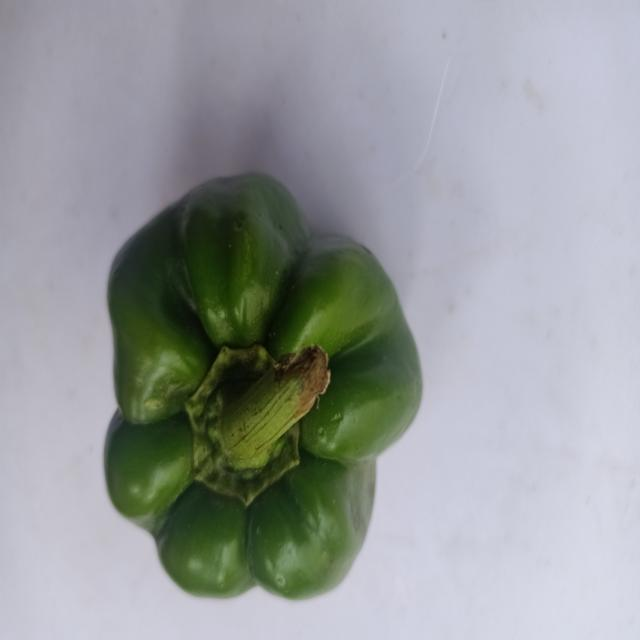Capsicum: (74, 161, 436, 633)
